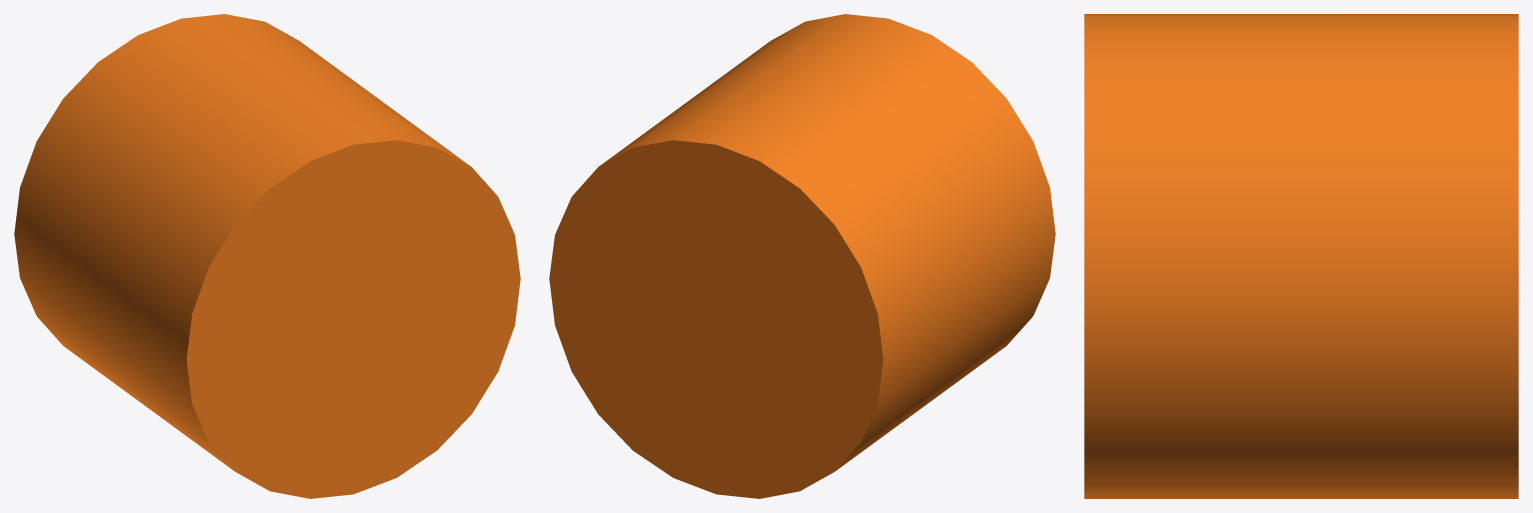
3 views of the same model, side by side, from view 1: azimuth 30°, elevation 25°; view 2: azimuth 150°, elevation 25°; view 3: azimuth 270°, elevation 25° (orthographic). The views are drawn at different scales.
Visible parts, largest first — view 1: gripper_frame; view 2: gripper_frame; view 3: gripper_frame.
Boxes of the visible parts, box(x1,y1,x2,y2) form: gripper_frame: box(14, 14, 520, 498); gripper_frame: box(549, 14, 1055, 498); gripper_frame: box(1084, 14, 1518, 498).
Size of the model in its own units: 0.0134 by 0.0134 by 0.012.
